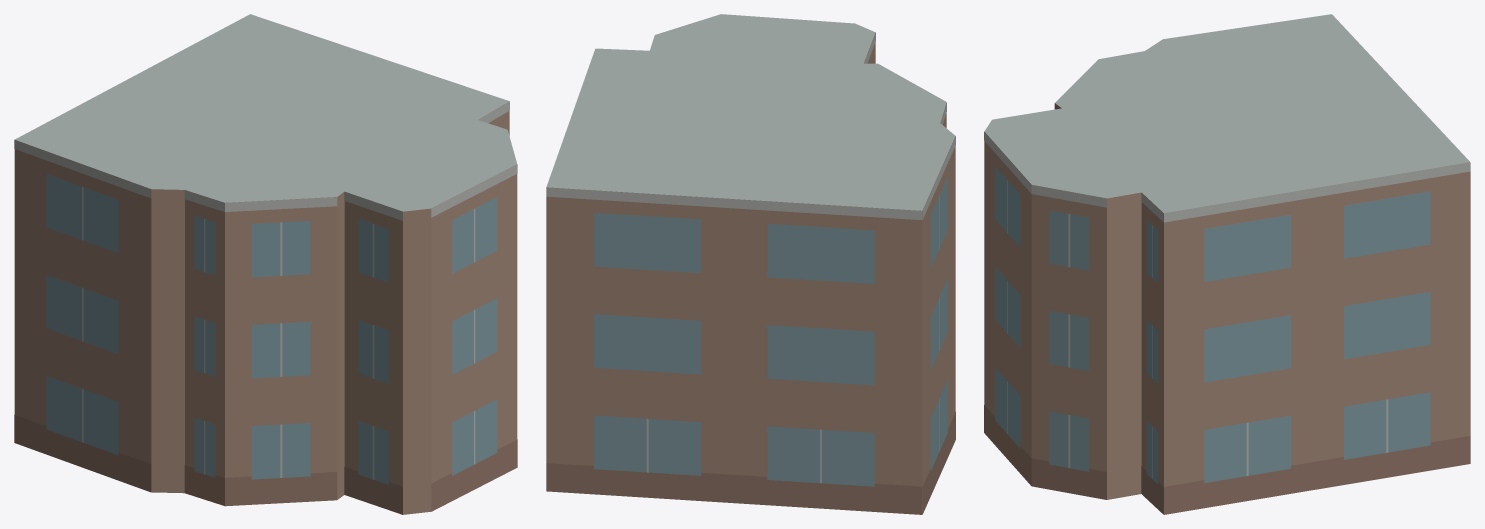
File: survey-upis-32776343.glb
3 views of the same model, side by side, from view 1: azimuth 30°, elevation 25°; view 2: azimuth 150°, elevation 25°; view 3: azimuth 270°, elevation 25° (orthographic).
Parts seen in each view (by area): view 1: survey-upis-32776343.tmp; view 2: survey-upis-32776343.tmp; view 3: survey-upis-32776343.tmp.
Part boxes in pixels (<box>): survey-upis-32776343.tmp: <box>14,14,517,514</box>; survey-upis-32776343.tmp: <box>546,14,955,514</box>; survey-upis-32776343.tmp: <box>984,14,1470,514</box>.
Size of the model in its own units: 11.28 by 7.95 by 11.63.
